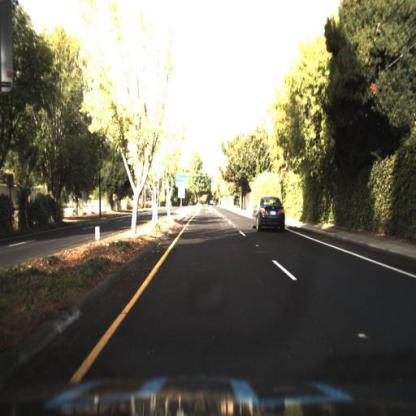car: (252, 195, 285, 230)
